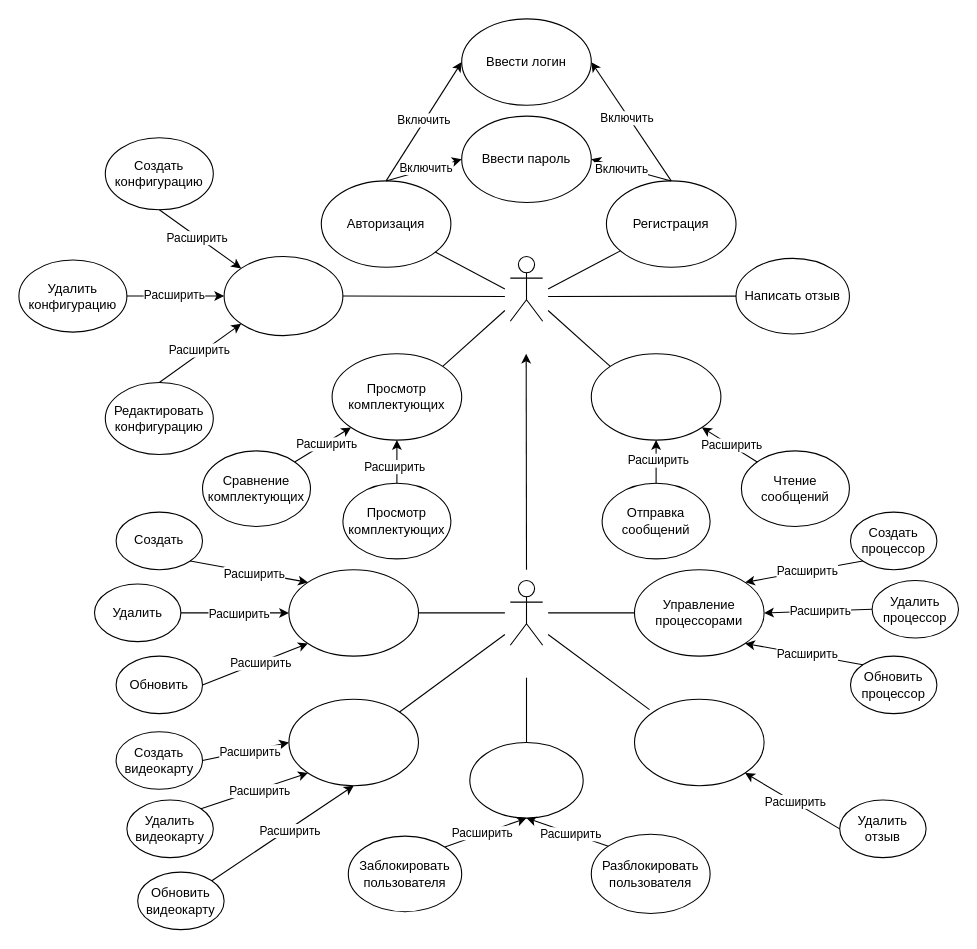
Some shapes in this 977 by 949 pixel diagram are drawn without their labels. The centre of each missing label's shape, as x and y in pixels:
Admin: the point at 526,612
User: the point at 526,288
Работа с конфигурациями: the point at 283,295
Работа с чатом поддержки: the point at 655,396
Управление Видеокартами: the point at 353,742
Управление материнскими платами: the point at 353,612
Управление Отзывами: the point at 698,742
Управление пользователями: the point at 526,779
